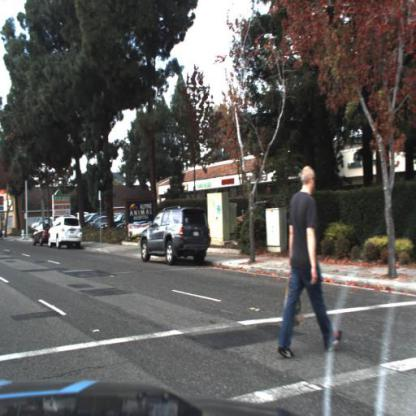car: (136, 203, 215, 269), (47, 213, 86, 253), (31, 218, 50, 253)
pedestrian: (277, 167, 345, 362)
